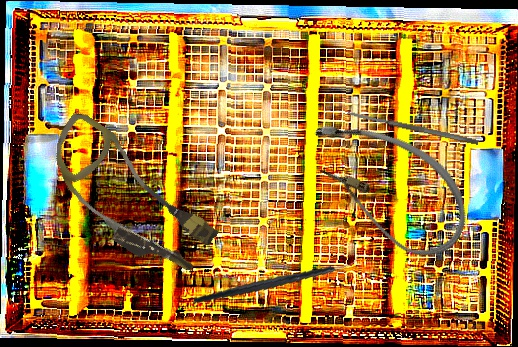Cannula: (27, 108, 232, 287), (285, 103, 487, 271)
Chopper: (193, 232, 360, 325)
Spatula Surgical: (346, 109, 480, 146)
